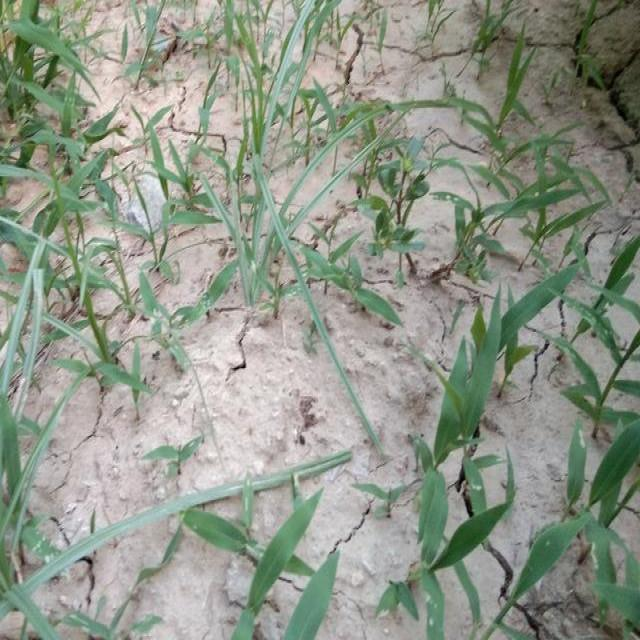weed: (202, 13, 416, 450), (443, 323, 640, 640), (11, 27, 162, 406), (449, 24, 602, 296), (1, 412, 101, 640), (192, 500, 350, 640)
